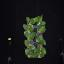leaf: (23, 24, 29, 31), (24, 31, 30, 38), (30, 32, 36, 39), (24, 40, 30, 47), (25, 48, 30, 56), (29, 53, 37, 58), (41, 47, 46, 55), (29, 25, 34, 32), (41, 38, 46, 45), (37, 22, 41, 30), (30, 18, 35, 24), (34, 50, 40, 55), (40, 26, 45, 32), (35, 16, 40, 22), (30, 46, 36, 50), (40, 14, 43, 22), (26, 17, 30, 22), (36, 38, 41, 42), (41, 22, 46, 25)
